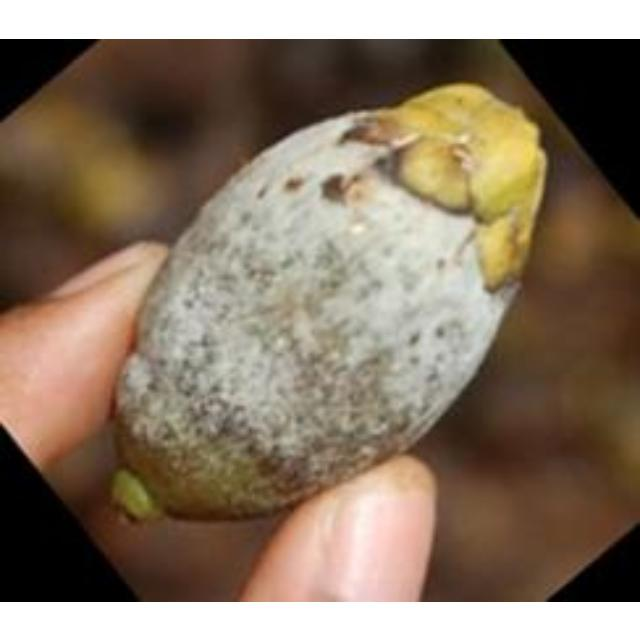damaged: (102, 83, 551, 526)
